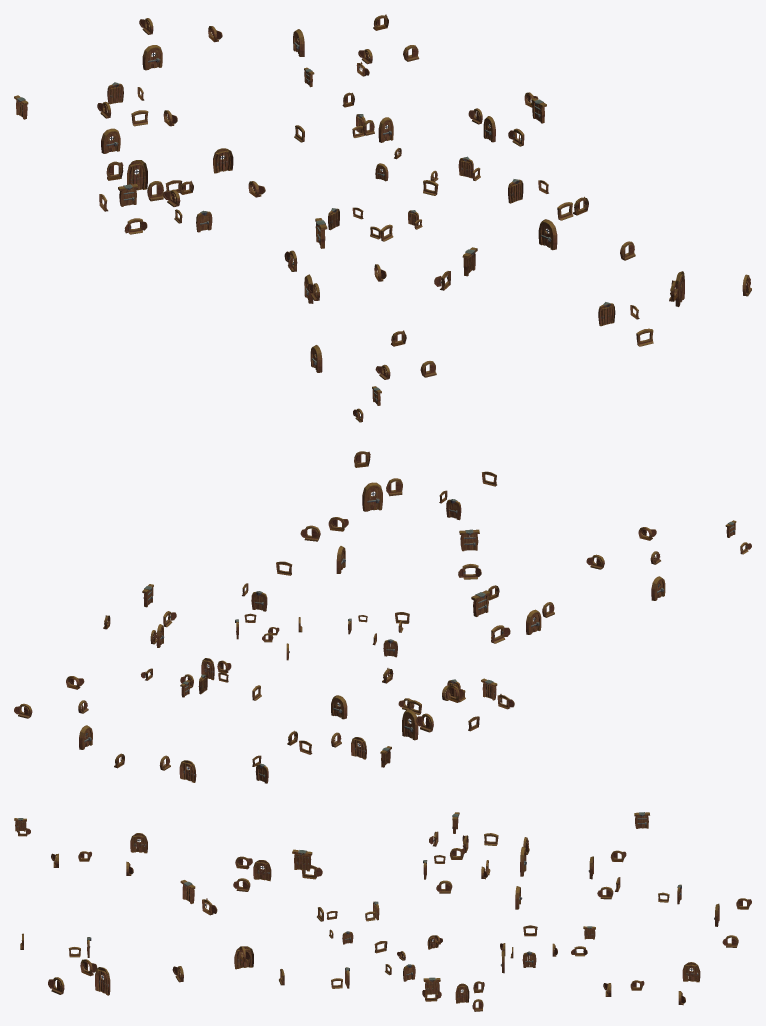
File: Windblock1.FBX
3 views of the same model, one above another, from view 1: azimuth 30°, elevation 25°; view 2: azimuth 150°, elevation 25°; view 3: azimuth 270°, elevation 25° (orthographic). The views are drawn at different scales.
Visible parts, largest first — view 1: Object4557; view 2: Object4557; view 3: Object4557.
Part boxes in pixels (x1,y1,x2,y2): Object4557: [14, 14, 751, 422]; Object4557: [14, 451, 751, 783]; Object4557: [14, 812, 751, 1011].
Bounding box in the file's own units: 5177 × 594 × 8730.
